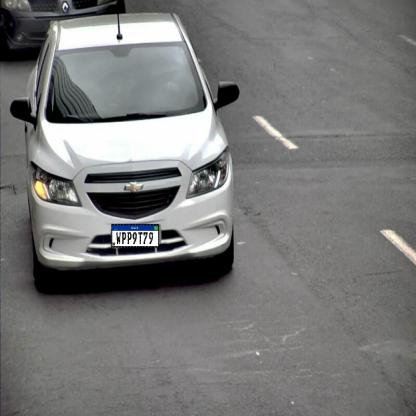PlacaM: (111, 224, 159, 247)
